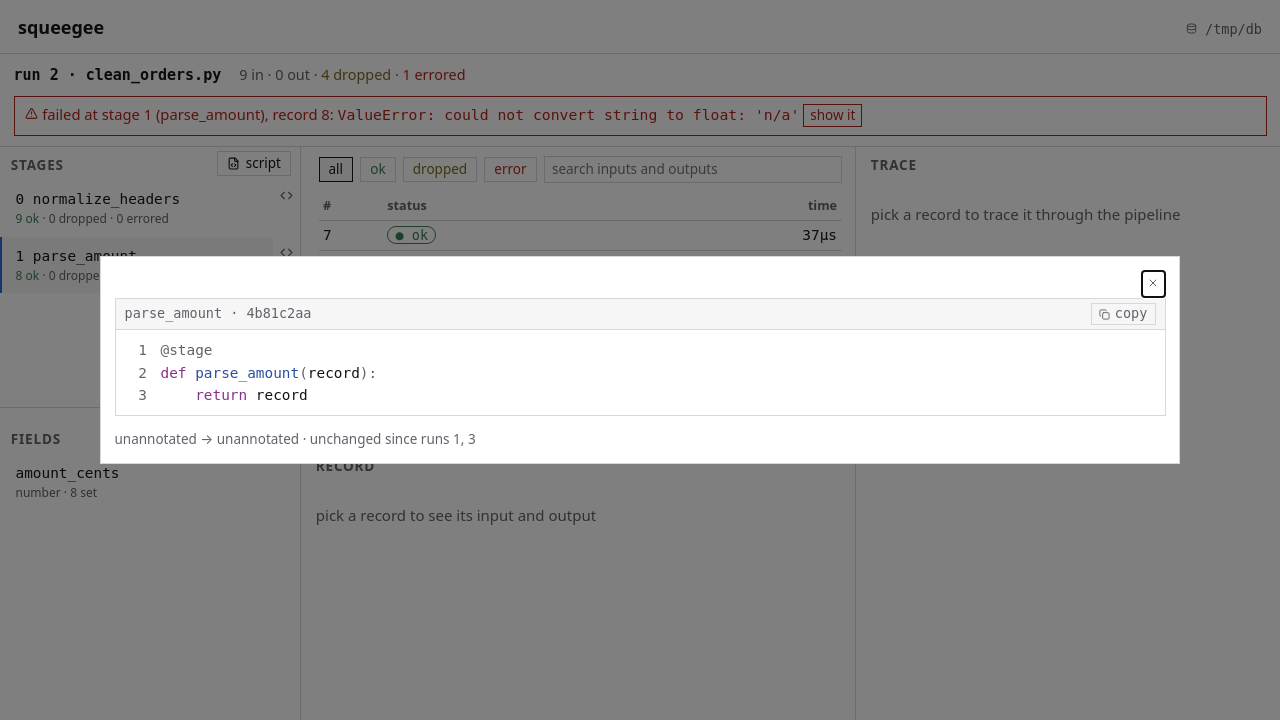
Scenario: closing a deep linked source modal clears the parameter
Click the button named "close source" at (1153, 284), box [1141,270,1166,298]
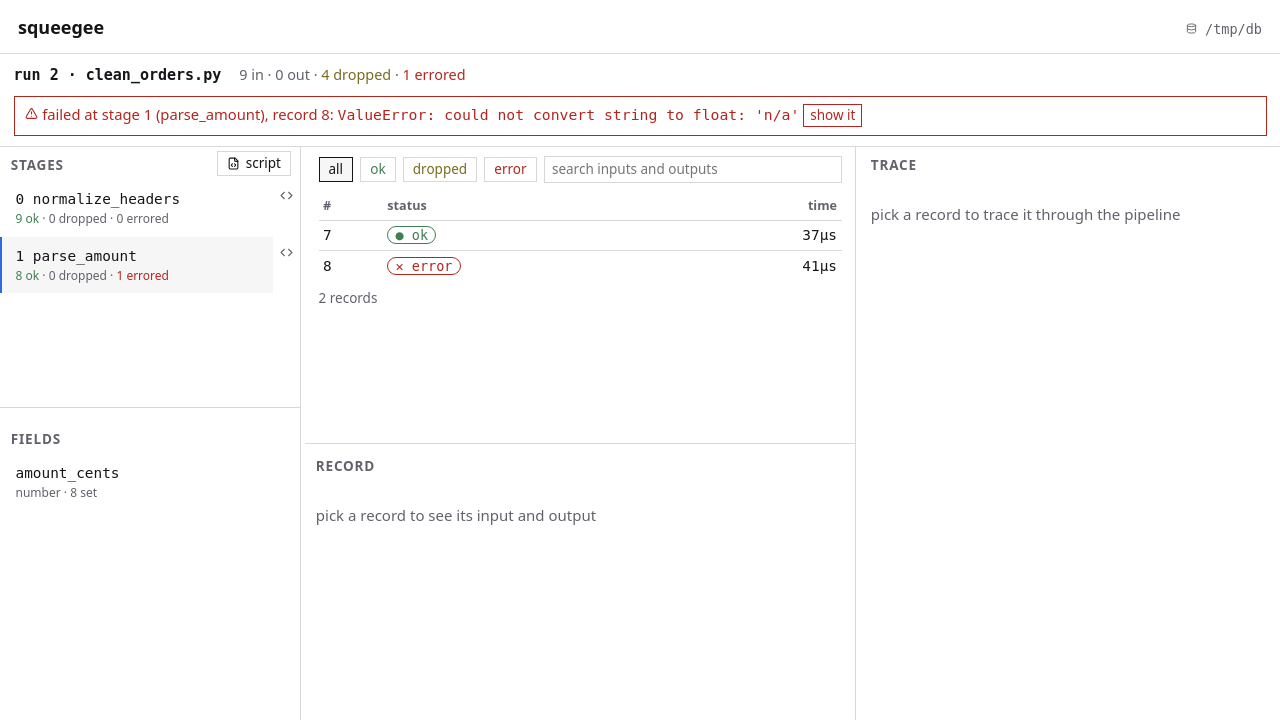
Expected: the dialog is gone
